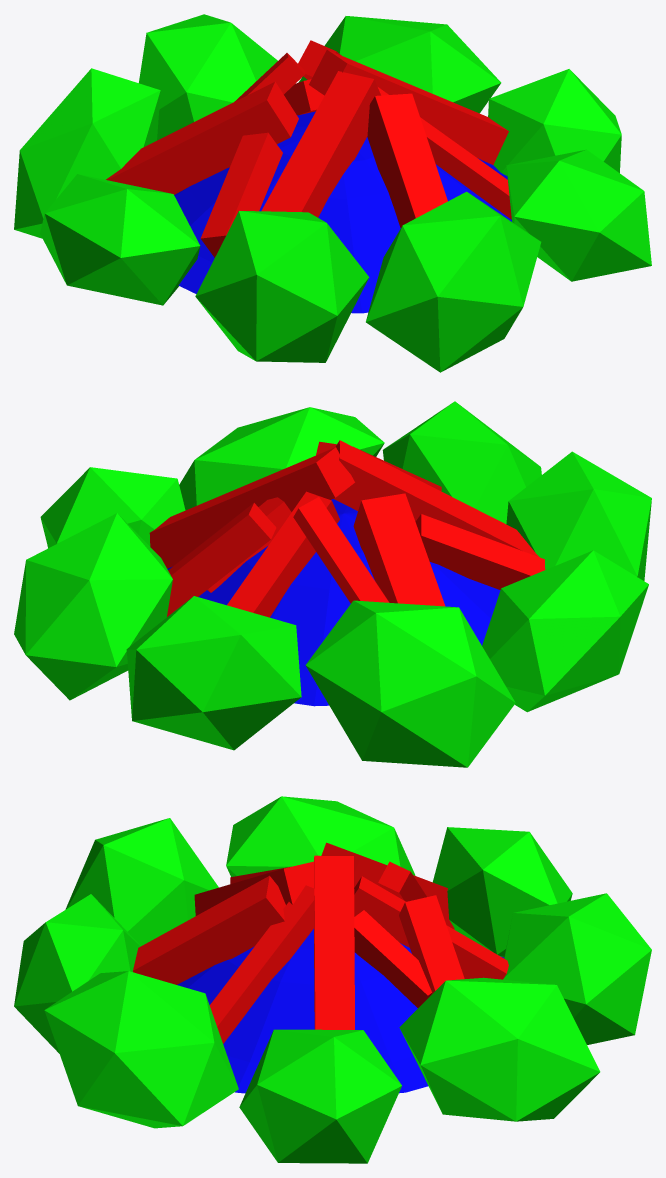
Rendered from SM_CampFire.fbx.
3 renders of one model, top to bottom at view 1: azimuth 30°, elevation 25°; view 2: azimuth 150°, elevation 25°; view 3: azimuth 270°, elevation 25°, orthographic. The views are drawn at different scales.
Visible parts, largest first — view 1: Sphere.001; view 2: Sphere.001; view 3: Sphere.001.
Part boxes in pixels (x1,y1,x2,y2): Sphere.001: (14, 14, 651, 372); Sphere.001: (14, 401, 651, 767); Sphere.001: (14, 796, 651, 1163).
Size of the model in its own units: 168 by 172 by 60.69.
